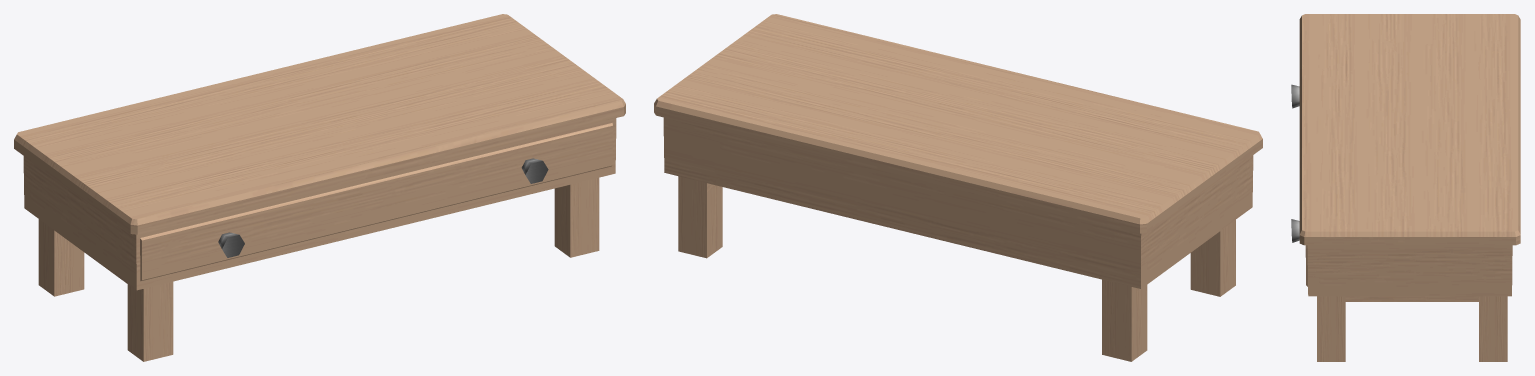
Rendered from Coffee_Table_B_3.FBX.
The picture shows the model from 3 angles, left to right: view 1: azimuth 30°, elevation 25°; view 2: azimuth 150°, elevation 25°; view 3: azimuth 270°, elevation 25°; orthographic projection. The views are drawn at different scales.
Parts seen in each view (by area): view 1: Coffee Table_B; view 2: Coffee Table_B; view 3: Coffee Table_B.
Boxes of the visible parts, x1=… form: Coffee Table_B: x1=14, y1=14, x2=625, y2=361; Coffee Table_B: x1=654, y1=14, x2=1262, y2=361; Coffee Table_B: x1=1291, y1=14, x2=1520, y2=361.
Size of the model in its own units: 201 by 58.91 by 88.61.
